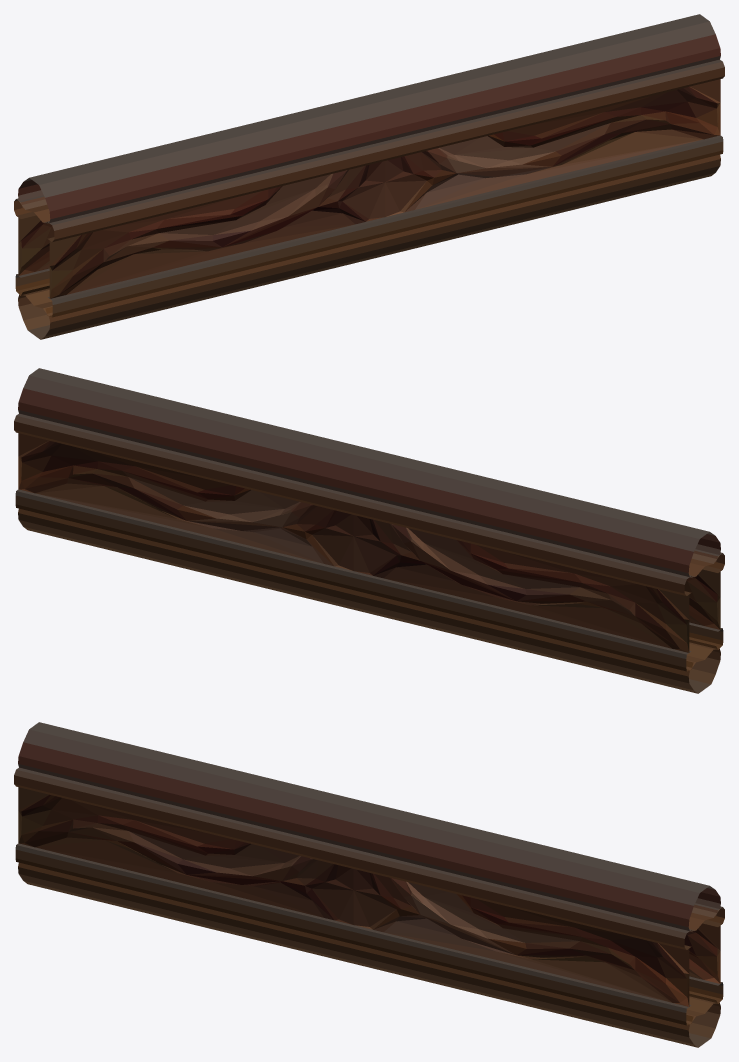
Rendered from Wall_HomeA-TrimTopB-6m.fbx.
3 renders of one model, top to bottom at view 1: azimuth 30°, elevation 25°; view 2: azimuth 150°, elevation 25°; view 3: azimuth 330°, elevation 25°, orthographic.
Visible parts, largest first — view 1: Wall_HomeA-TrimTopB-6m; view 2: Wall_HomeA-TrimTopB-6m; view 3: Wall_HomeA-TrimTopB-6m.
Boxes of the visible parts, x1,y1,x2,y2 form: Wall_HomeA-TrimTopB-6m: (14,14,724,339); Wall_HomeA-TrimTopB-6m: (14,368,724,693); Wall_HomeA-TrimTopB-6m: (14,722,724,1047).
Size of the model in its own units: 600 by 131 by 62.3.
